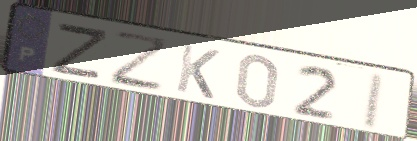0: (232, 53, 281, 110)
2: (292, 64, 340, 121)
I: (358, 70, 388, 133)
K: (172, 41, 222, 102)
Z: (110, 29, 171, 95), (47, 22, 112, 83)
